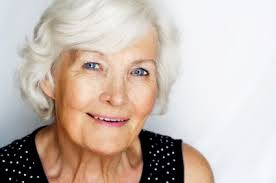white_female: (54, 29, 175, 155)
